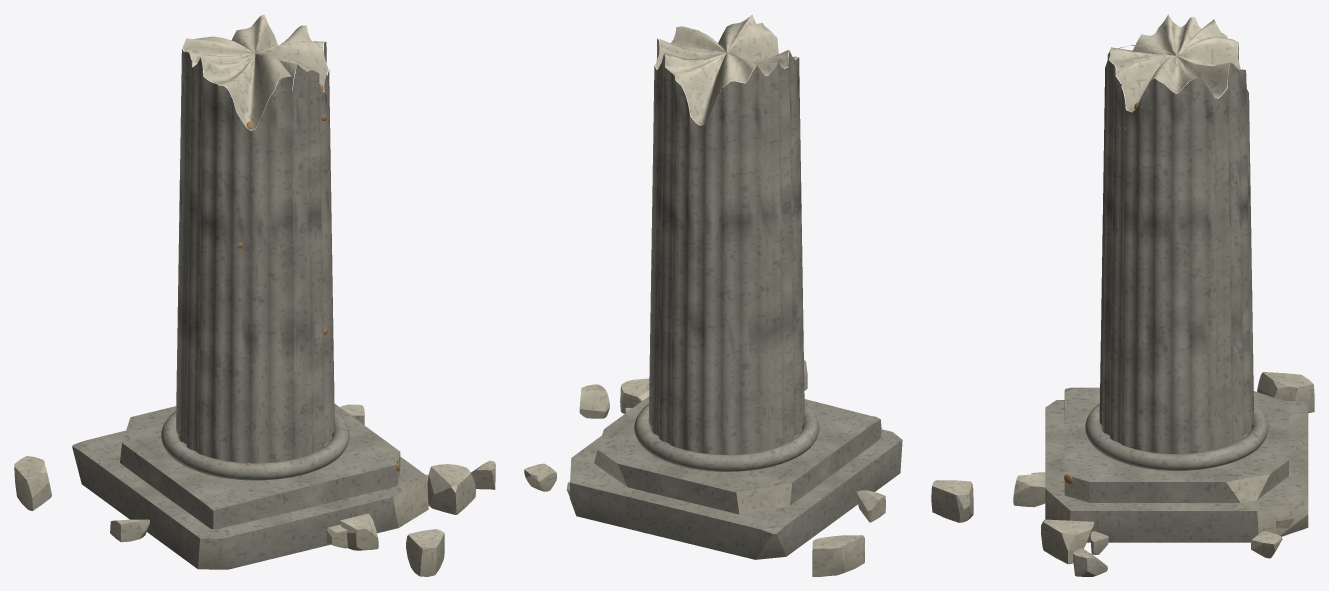
3 views of the same model, side by side, from view 1: azimuth 30°, elevation 25°; view 2: azimuth 150°, elevation 25°; view 3: azimuth 270°, elevation 25° (orthographic). The views are drawn at different scales.
Parts seen in each view (by area): view 1: weathered mineral, fresh chipped mineral; view 2: weathered mineral, fresh chipped mineral; view 3: weathered mineral, fresh chipped mineral.
Boxes of the visible parts, <box> form: weathered mineral: <box>72,42,426,569</box>; fresh chipped mineral: <box>14,14,495,576</box>; weathered mineral: <box>566,38,902,559</box>; fresh chipped mineral: <box>524,14,885,576</box>; weathered mineral: <box>1045,42,1308,542</box>; fresh chipped mineral: <box>931,14,1314,576</box>.
Bounding box in the file's own units: 1.1 × 1.27 × 0.9915.
Materials: 3 (2 with a texture image).
